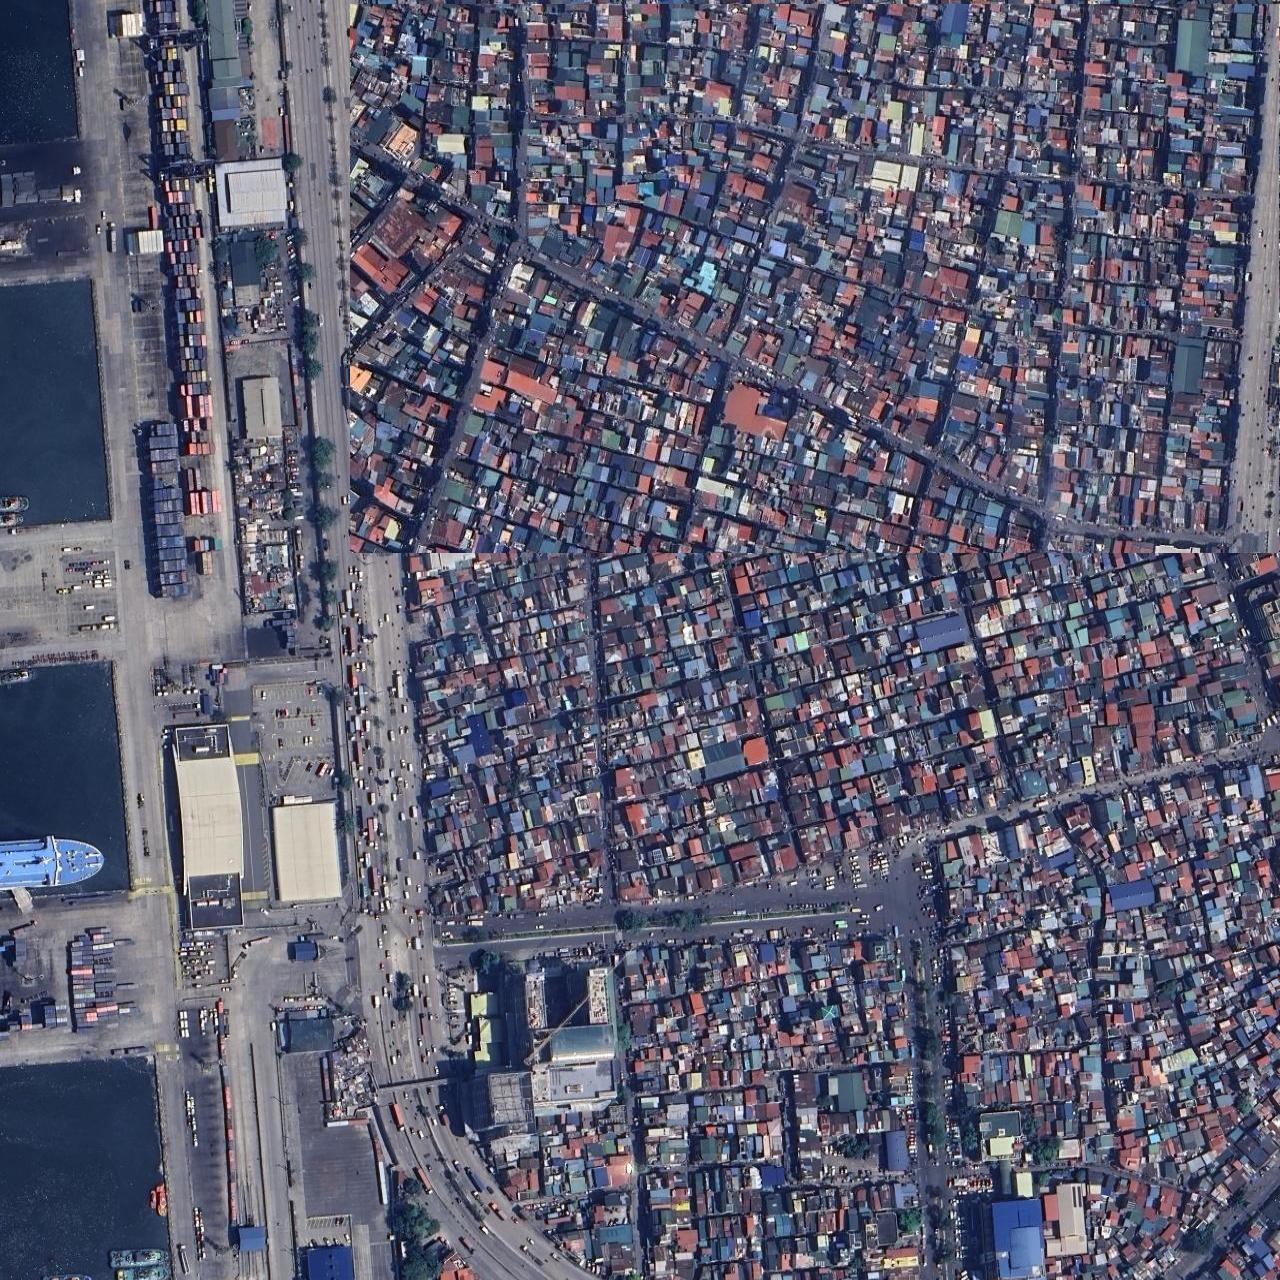house: (404, 139, 1274, 948), (350, 5, 1279, 553), (443, 748, 1280, 1278)
water: (0, 1058, 177, 1280), (4, 663, 123, 903), (0, 273, 111, 529), (0, 0, 82, 157)
